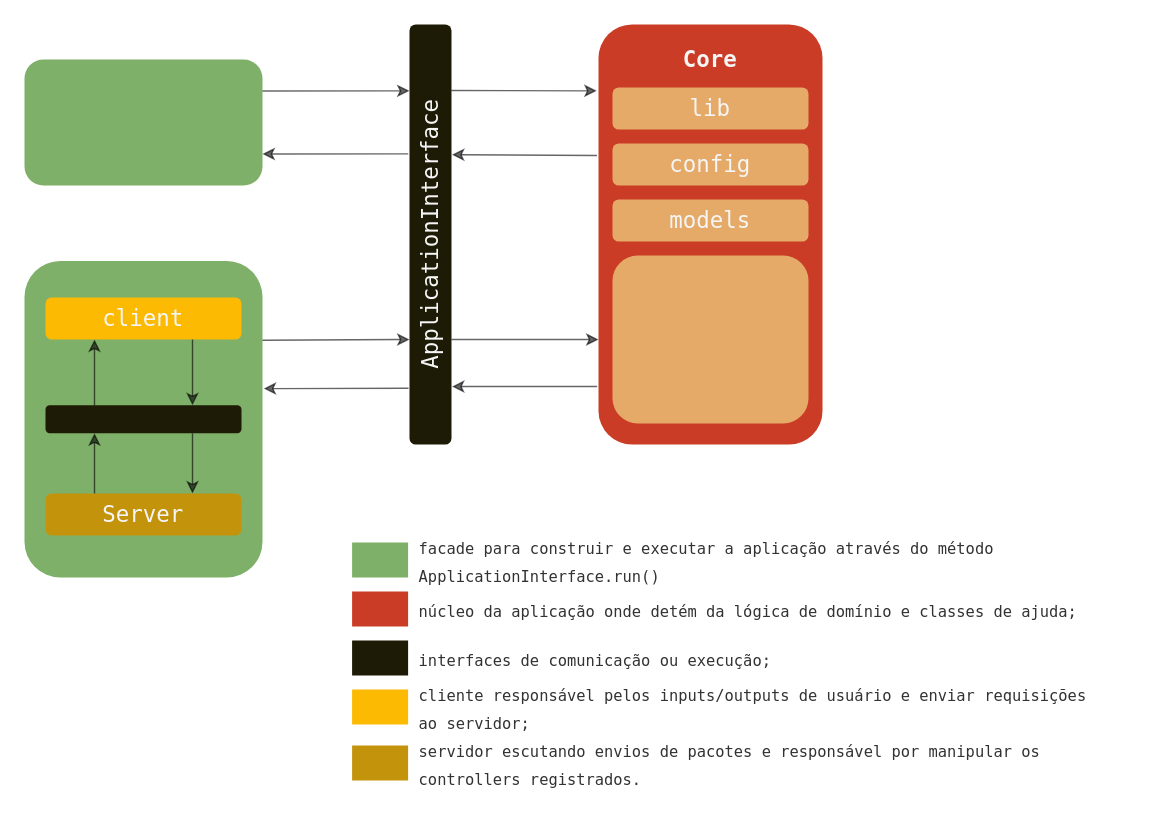
This 1154x813 diagram has some shape labels left out. The centre of each missing label's shape, as x and y in pixels:
"App (Stand-alone)" belongs at point 143,122.
"controllers" belongs at point 710,339.
"ServiceLayer" belongs at point 143,419.
